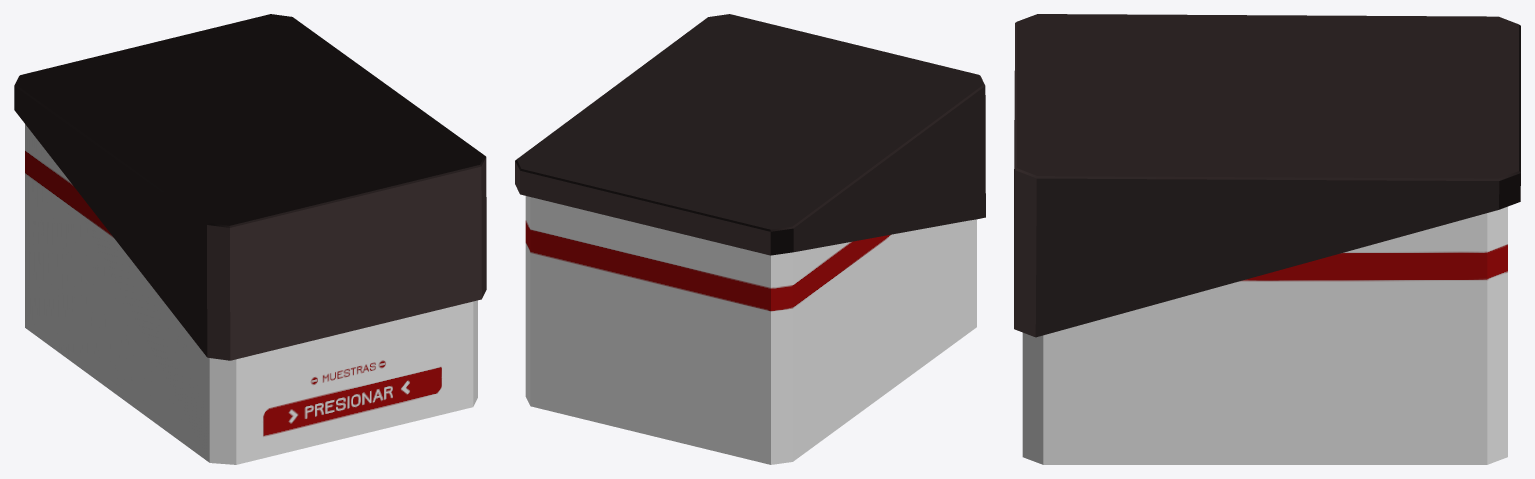
Rendered from Portamuestras_caja.fbx.
3 renders of one model, left to right at view 1: azimuth 30°, elevation 25°; view 2: azimuth 150°, elevation 25°; view 3: azimuth 270°, elevation 25°, orthographic. The views are drawn at different scales.
Visible parts, largest first — view 1: caja_muestas_sup_lab, caja_muestas_inf_lab; view 2: caja_muestas_inf_lab, caja_muestas_sup_lab; view 3: caja_muestas_sup_lab, caja_muestas_inf_lab.
Boxes of the visible parts, box(x1,y1,x2,y2) form: caja_muestas_sup_lab: box(14, 14, 486, 360); caja_muestas_inf_lab: box(25, 124, 477, 464); caja_muestas_inf_lab: box(525, 196, 976, 464); caja_muestas_sup_lab: box(515, 14, 985, 255); caja_muestas_sup_lab: box(1014, 14, 1520, 337); caja_muestas_inf_lab: box(1022, 206, 1507, 464).
Size of the model in its own units: 77.03 by 63.99 by 101.
2 materials, 2 textured.
